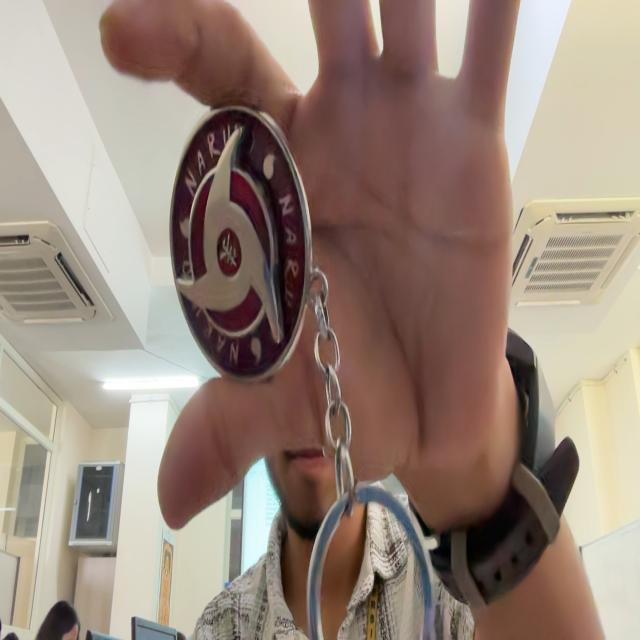dangerous: (170, 107, 433, 639)
